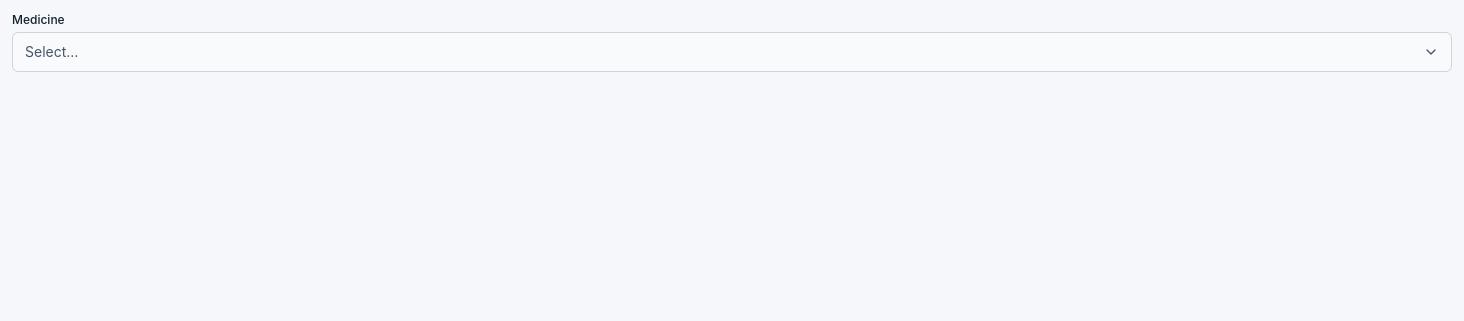
Test: SearchableSelect › opens on click and lists every option
The width and height of the screenshot is (1464, 321).
Click the dropdown named "Medicine": [52, 52] box [12, 32, 1452, 72]
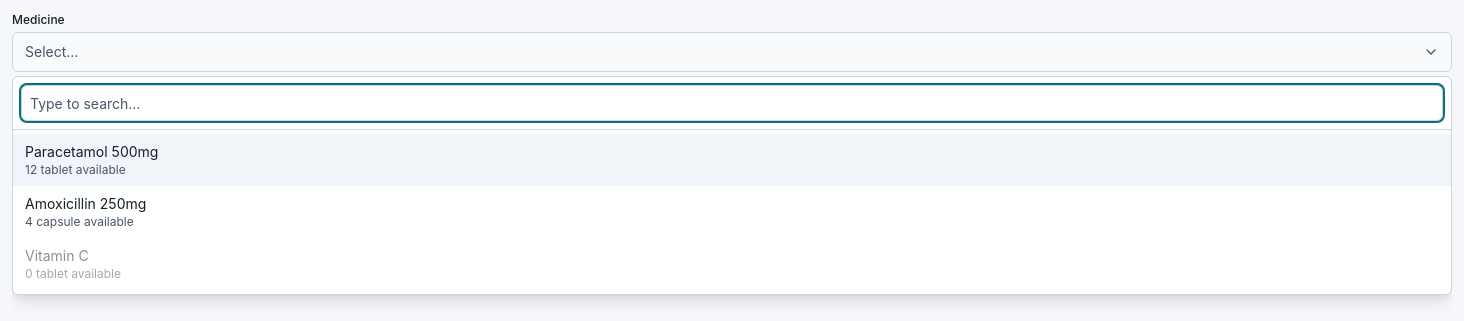
Check: the list is shown, box [13, 130, 1451, 294]
Check: the number of options is 3, box [13, 134, 1451, 186]; [25, 195, 146, 229]; [25, 247, 121, 281]
